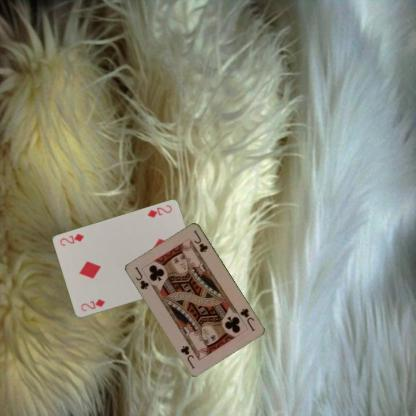2d: (144, 202, 173, 219), (78, 296, 106, 312)
Jc: (236, 306, 256, 332), (132, 264, 150, 291)
